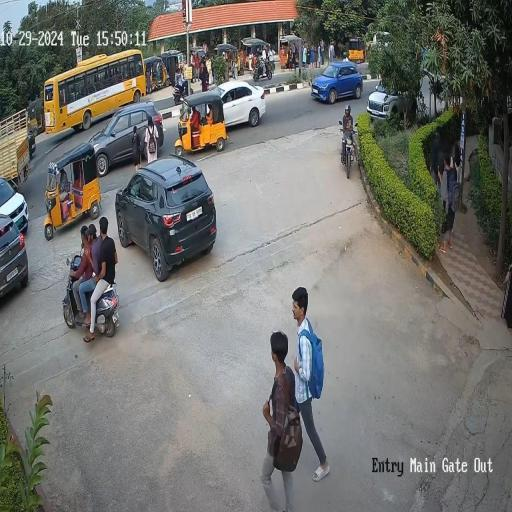helmet: (335, 101, 359, 127)
triple riding: (62, 218, 125, 332)
